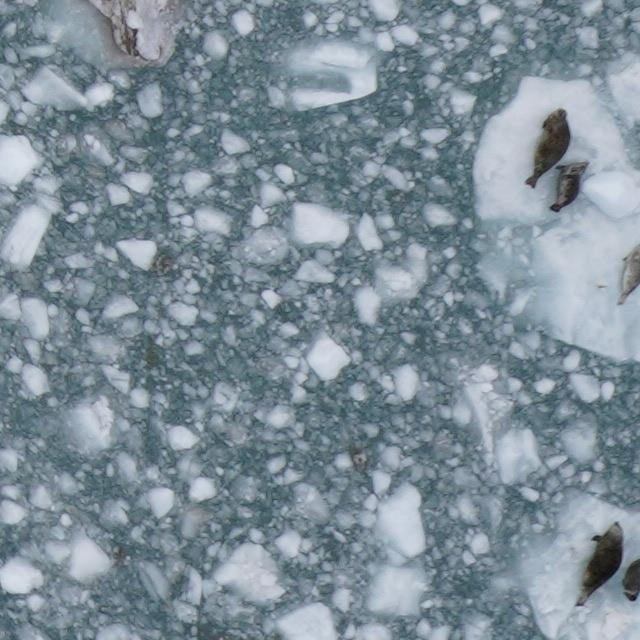seal: (571, 515, 628, 611), (521, 103, 576, 193), (546, 158, 595, 218), (614, 241, 640, 310), (618, 552, 640, 607)
